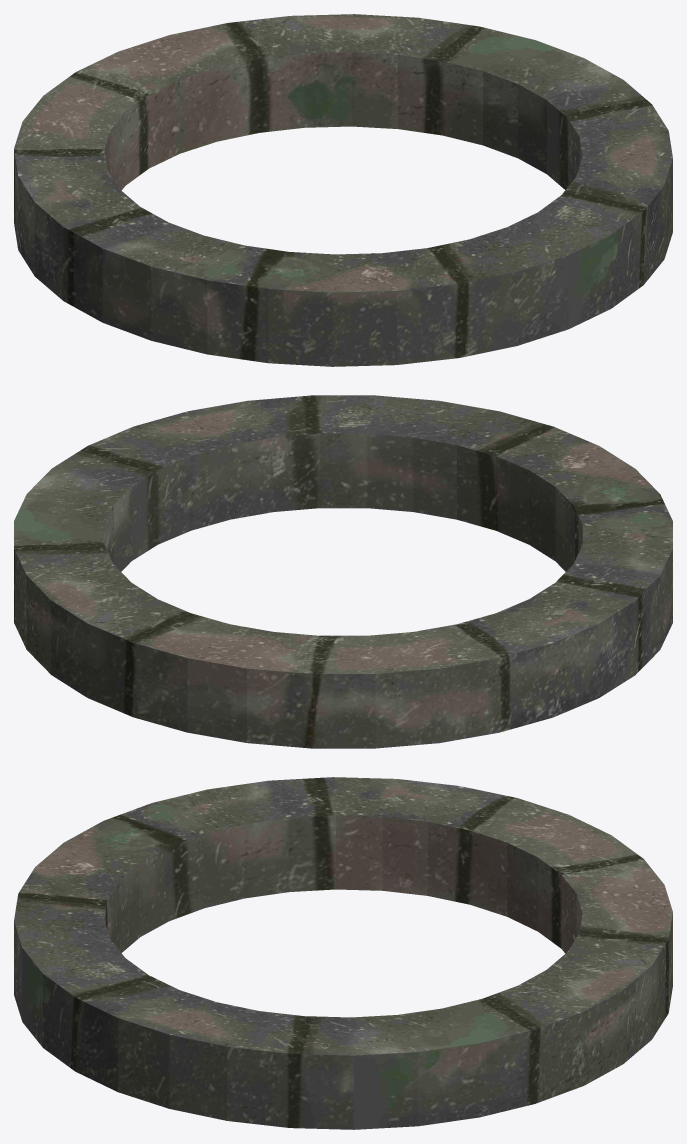
Rendered from StoneWell_part_21.fbx.
The picture shows the model from 3 angles, top to bottom: view 1: azimuth 30°, elevation 25°; view 2: azimuth 150°, elevation 25°; view 3: azimuth 270°, elevation 25°; orthographic projection.
Parts seen in each view (by area): view 1: Cylinder.004_Brick_0.001; view 2: Cylinder.004_Brick_0.001; view 3: Cylinder.004_Brick_0.001.
Boxes of the visible parts, bbox=[...] form: Cylinder.004_Brick_0.001: bbox=[14, 14, 672, 366]; Cylinder.004_Brick_0.001: bbox=[14, 395, 672, 748]; Cylinder.004_Brick_0.001: bbox=[14, 777, 672, 1129].
Size of the model in its own units: 856 by 106 by 856.
